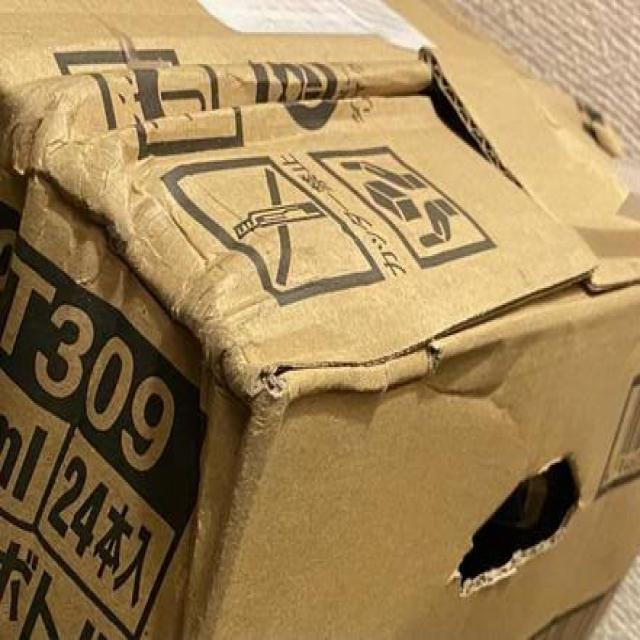carton_box: (1, 0, 640, 640)
package_damage: (1, 12, 640, 460), (446, 397, 607, 609)
